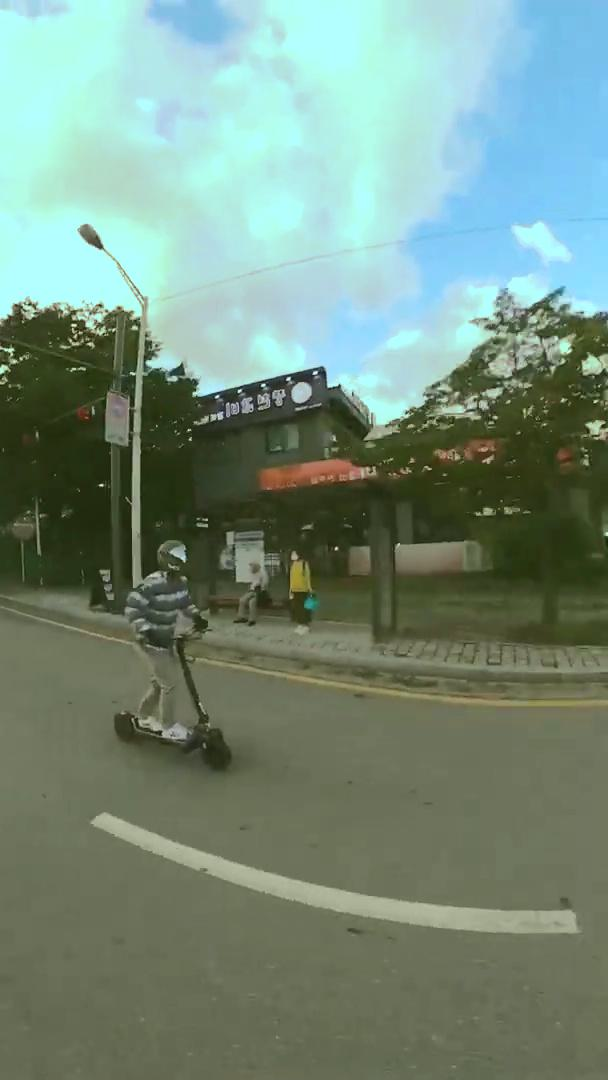helmet: (110, 538, 234, 771)
